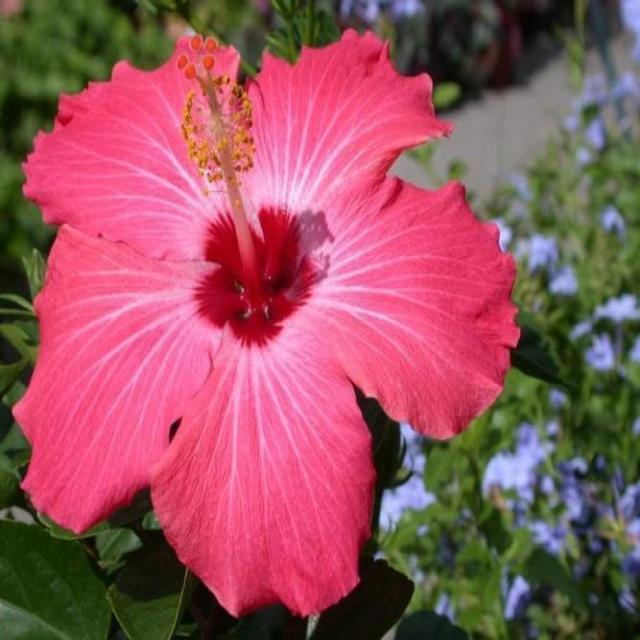hibiscus: (9, 6, 538, 627)
